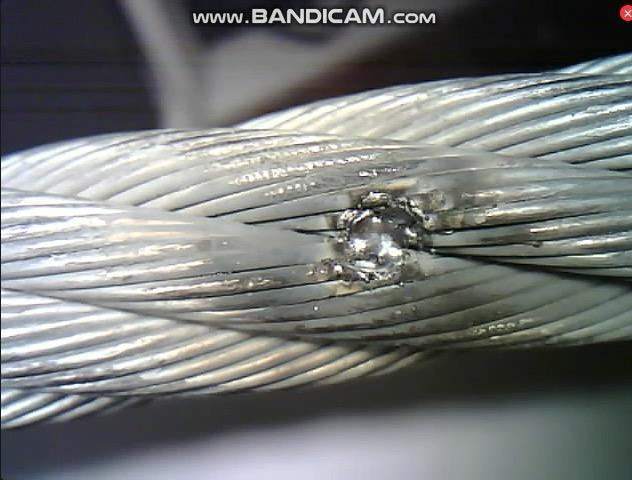thunderbolt: (294, 174, 477, 302)
